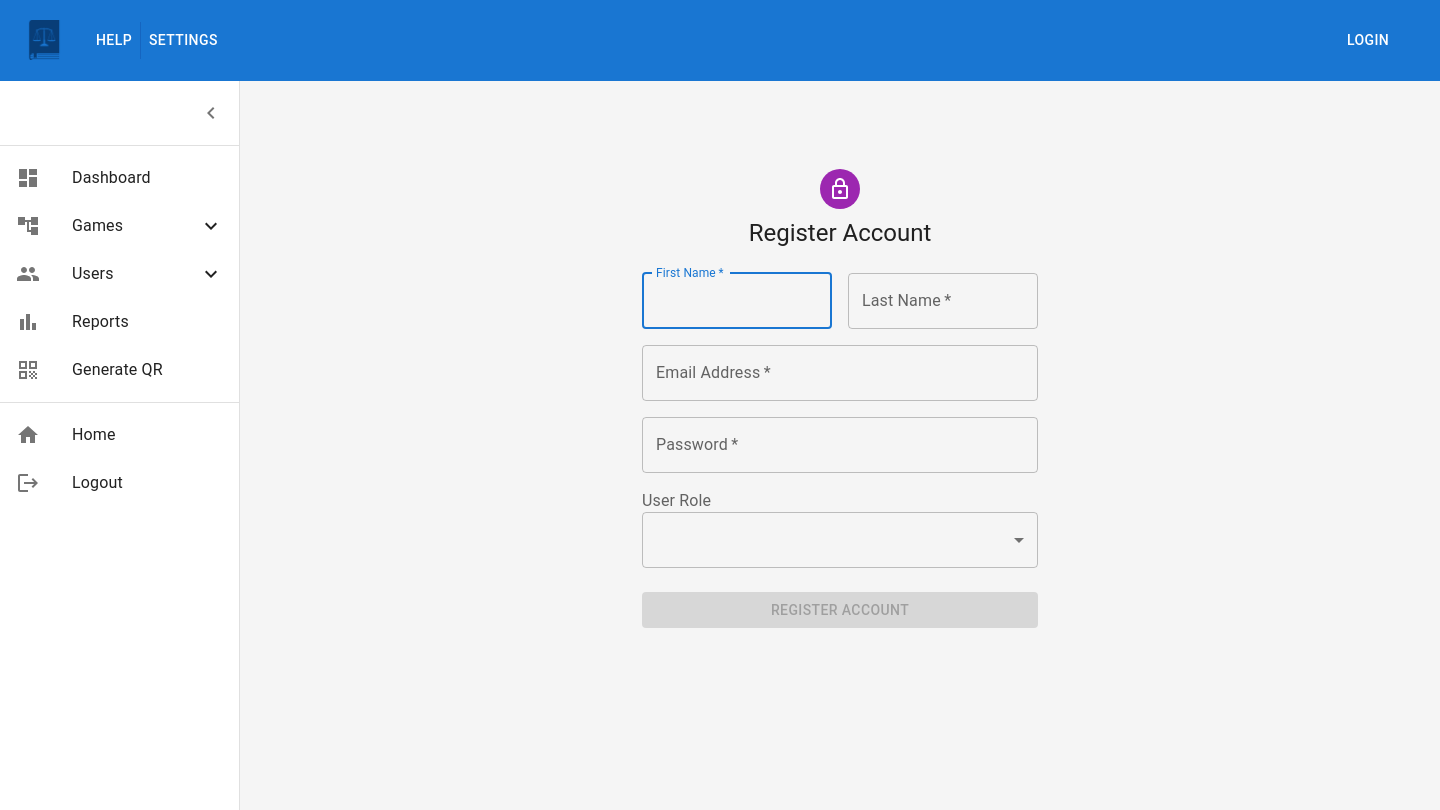
<Register /> › Submit Button › should not be disabled when email is valid and password is valid
Type "valid@email.com" into the field with test id "email-input".
click(840, 372); type("valid@email.com")  # box [642, 344, 1038, 400]
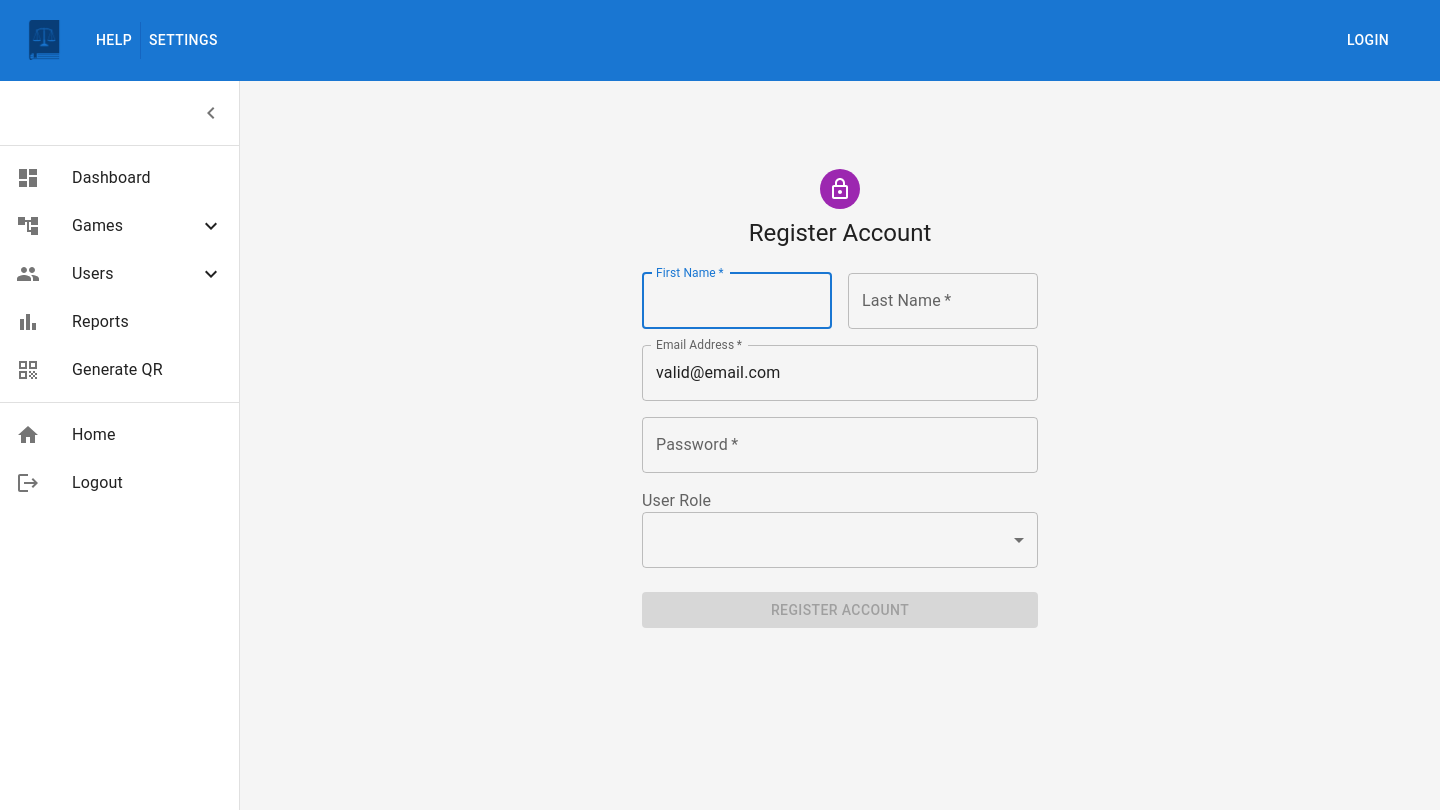
Type "morethan6" into the password field with test id "pass-input".
click(840, 444); type("morethan6")  # box [642, 416, 1038, 472]
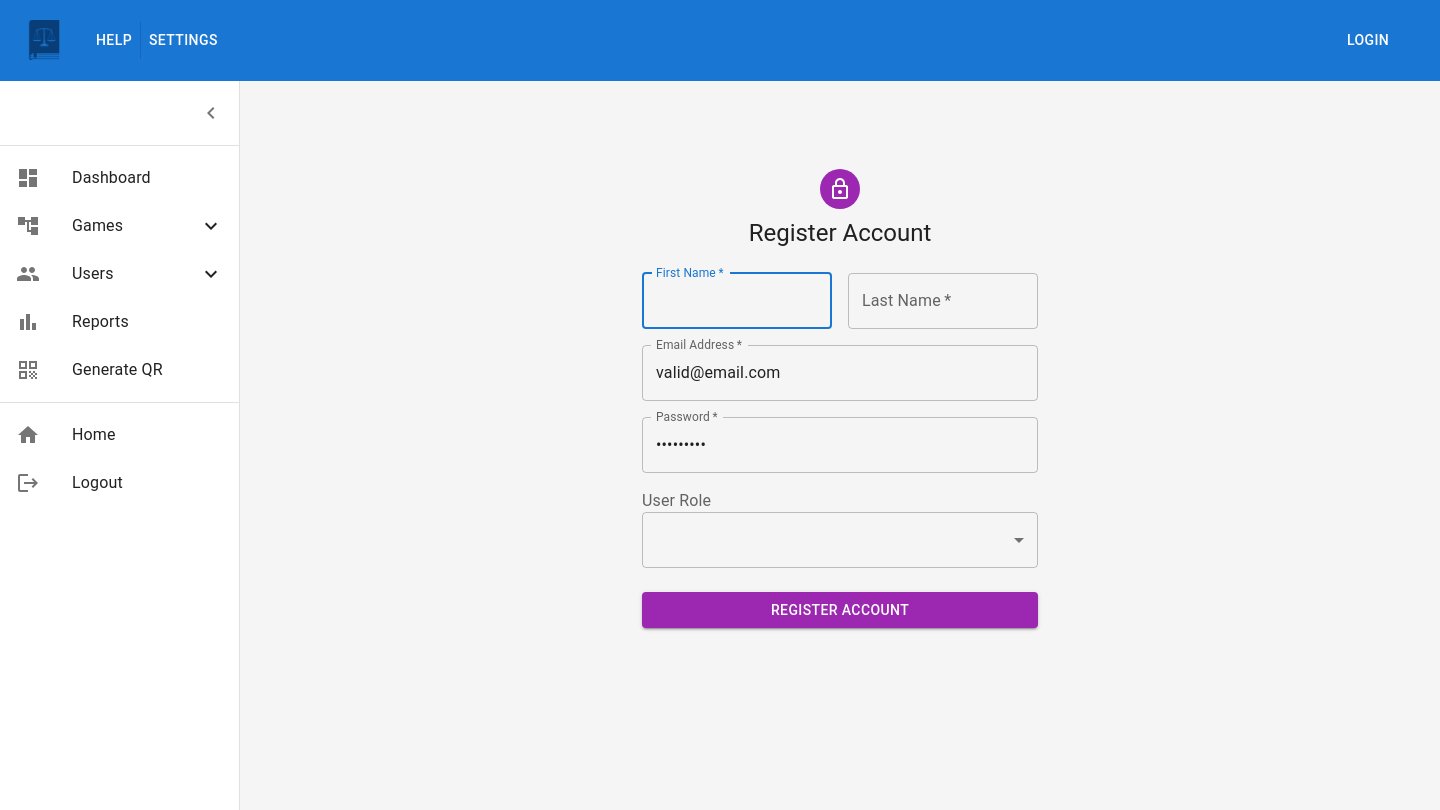
Check: the button with test id "submit-button" is enabled, box [642, 592, 1038, 628]
